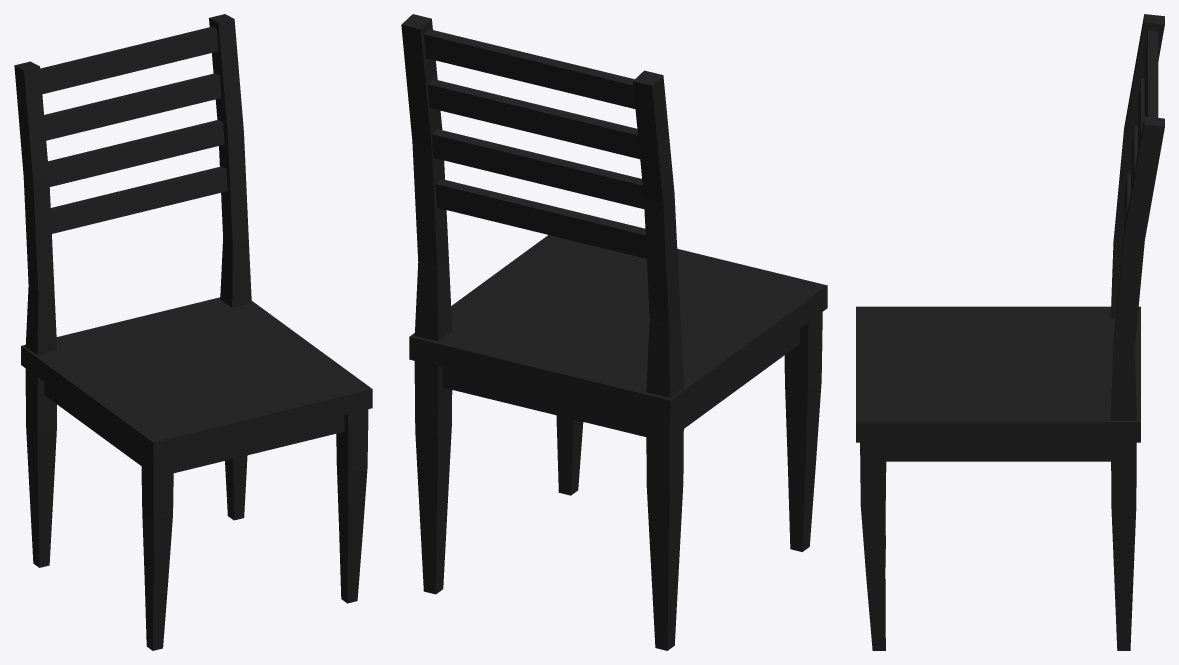
Rendered from pk_chair_ladder_black.glb.
3 views of the same model, side by side, from view 1: azimuth 30°, elevation 25°; view 2: azimuth 150°, elevation 25°; view 3: azimuth 270°, elevation 25° (orthographic). The views are drawn at different scales.
Visible parts, largest first — view 1: pk_chair_ladder_black; view 2: pk_chair_ladder_black; view 3: pk_chair_ladder_black.
Boxes of the visible parts, left/top/right/bottom form: pk_chair_ladder_black: left=14, top=14, right=372, bottom=650; pk_chair_ladder_black: left=401, top=14, right=827, bottom=650; pk_chair_ladder_black: left=856, top=14, right=1164, bottom=650.
Size of the model in its own units: 0.46 by 0.98 by 0.52.
Materials: 1 (1 with a texture image).
